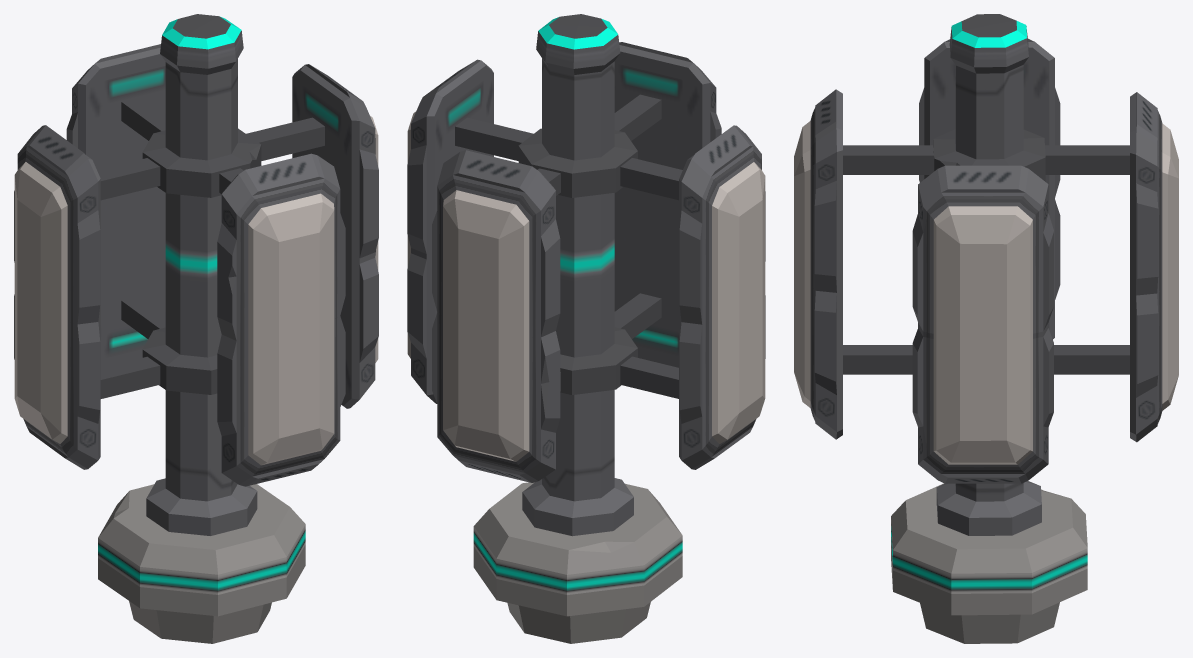
Rendered from SM_Prop_Hover_Light_04.fbx.
The picture shows the model from 3 angles, left to right: view 1: azimuth 30°, elevation 25°; view 2: azimuth 150°, elevation 25°; view 3: azimuth 270°, elevation 25°; orthographic projection.
Parts seen in each view (by area): view 1: SM_Prop_Hover_Light_04; view 2: SM_Prop_Hover_Light_04; view 3: SM_Prop_Hover_Light_04.
Part boxes in pixels (x1,y1,x2,y2): SM_Prop_Hover_Light_04: (14, 14, 378, 643); SM_Prop_Hover_Light_04: (407, 14, 765, 643); SM_Prop_Hover_Light_04: (794, 14, 1178, 643).
Bounding box in the file's own units: 76.45 × 130 × 76.45.
